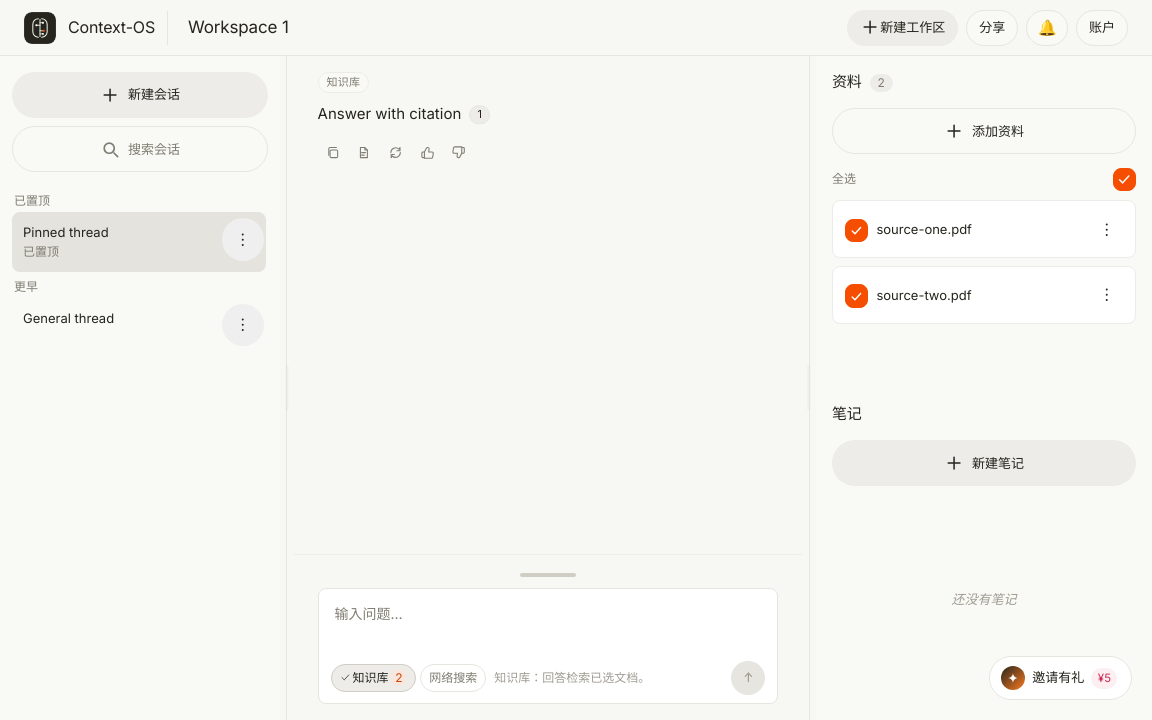
Test: WorkspaceSurface integration › opens a citation chunk modal from the real chat pane without refocusing the right rail
Expected: the button named "工作区标题" is shown, [180, 9, 297, 46]
Expected: the text "Answer with citation" is shown, [318, 104, 461, 123]
Click the button named "引用 1：Source Two" at (480,115), box [469, 106, 490, 125]
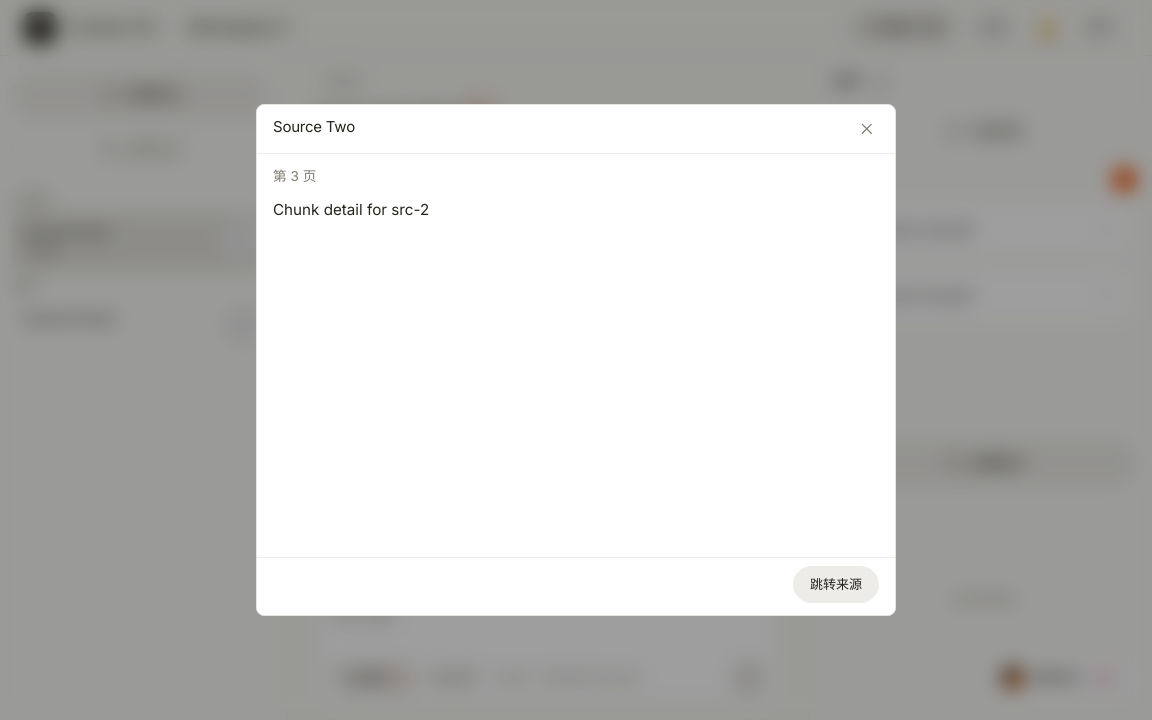
Result: the element with test id "workspace-citation-modal" is shown
Result: the text "Chunk detail for src-2" is shown at [273, 200, 429, 219]
Click the element with test id "workspace-citation-modal" at (69,360), box [0, 0, 1151, 719]
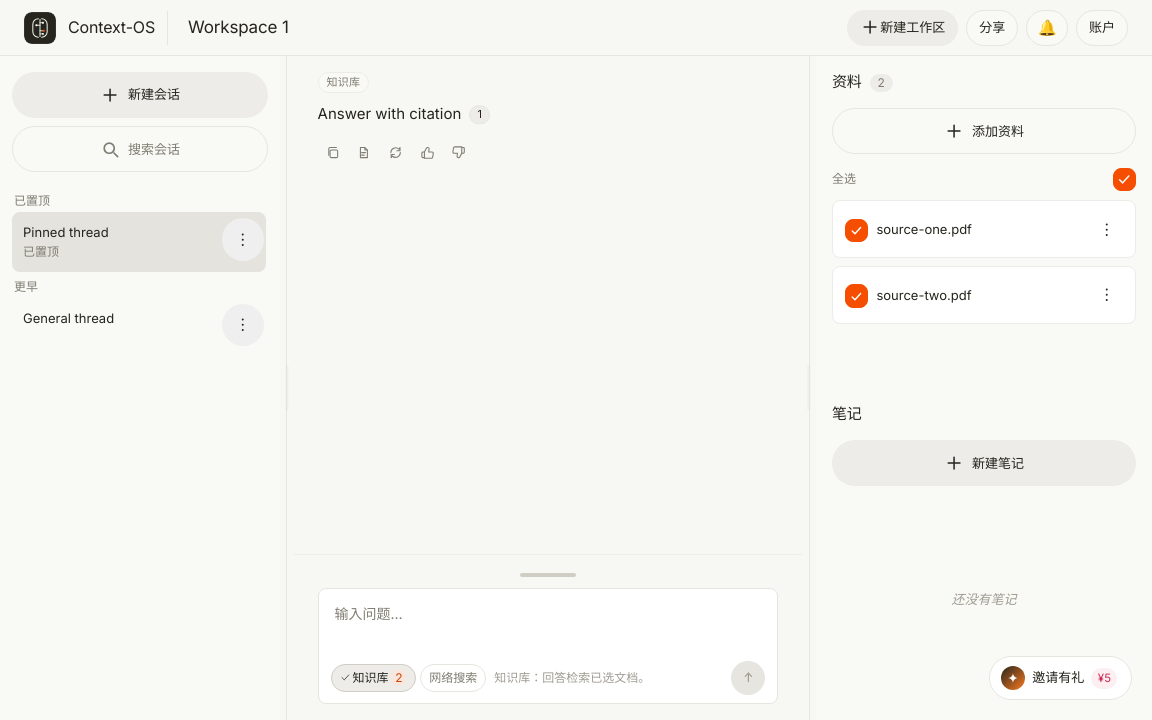
Result: the element with test id "workspace-citation-modal" is gone
